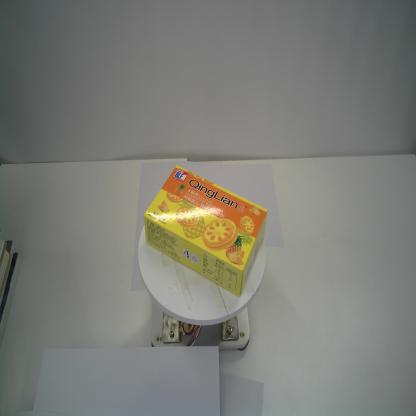Dessert: (142, 162, 270, 299)
